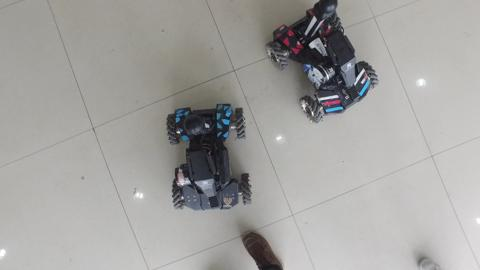chariot: (266, 1, 383, 134), (161, 98, 257, 220)
